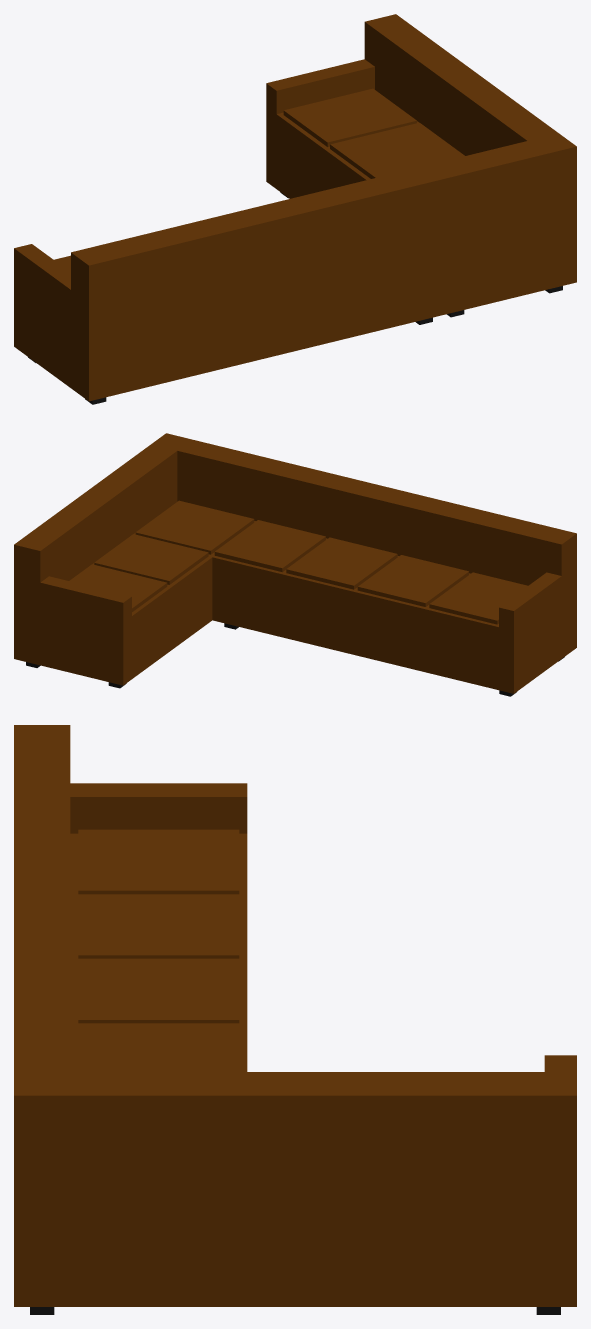
Rendered from sofa.gltf.
3 views of the same model, one above another, from view 1: azimuth 30°, elevation 25°; view 2: azimuth 150°, elevation 25°; view 3: azimuth 270°, elevation 25° (orthographic). The views are drawn at different scales.
Visible parts, largest first — view 1: sofa; view 2: sofa; view 3: sofa.
Boxes of the visible parts, box(x1,y1,x2,y2) form: sofa: box(14, 14, 576, 404); sofa: box(14, 433, 576, 696); sofa: box(14, 725, 576, 1314).
Size of the model in its own units: 10.9 by 3.1 by 7.
1 material, 1 textured.
